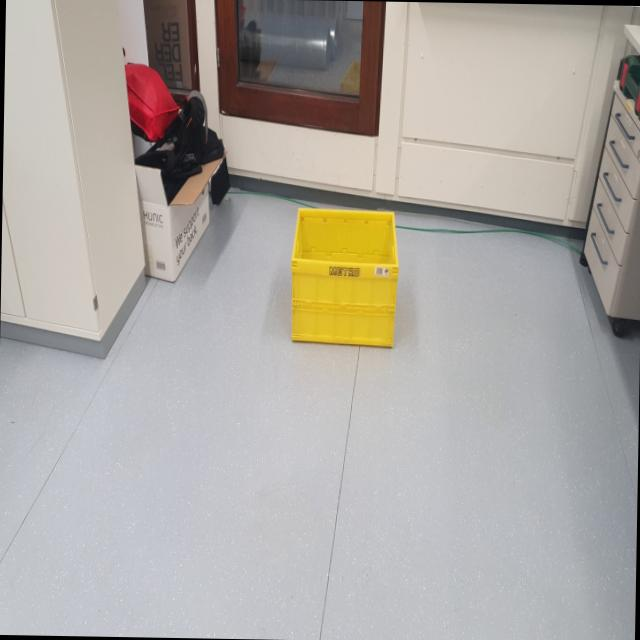box: (278, 201, 401, 364)
